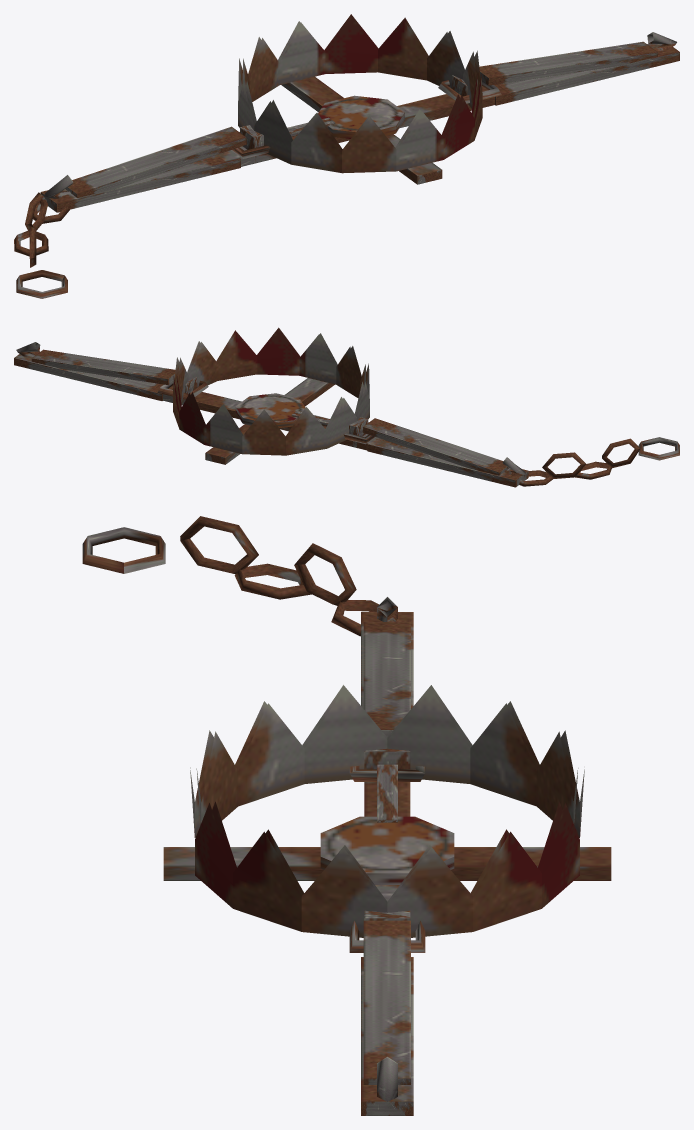
The model's file is bear_trap.obj.
3 renders of one model, top to bottom at view 1: azimuth 30°, elevation 25°; view 2: azimuth 150°, elevation 25°; view 3: azimuth 270°, elevation 25°, orthographic. The views are drawn at different scales.
Parts seen in each view (by area): view 1: bear_trap; view 2: bear_trap; view 3: bear_trap.
Part boxes in pixels (<box>): bear_trap: <box>14,14,679,298</box>; bear_trap: <box>14,327,679,487</box>; bear_trap: <box>82,516,611,1115</box>.
Bounding box in the file's own units: 1.05 × 0.0896 × 0.4015.
1 material, 1 textured.
